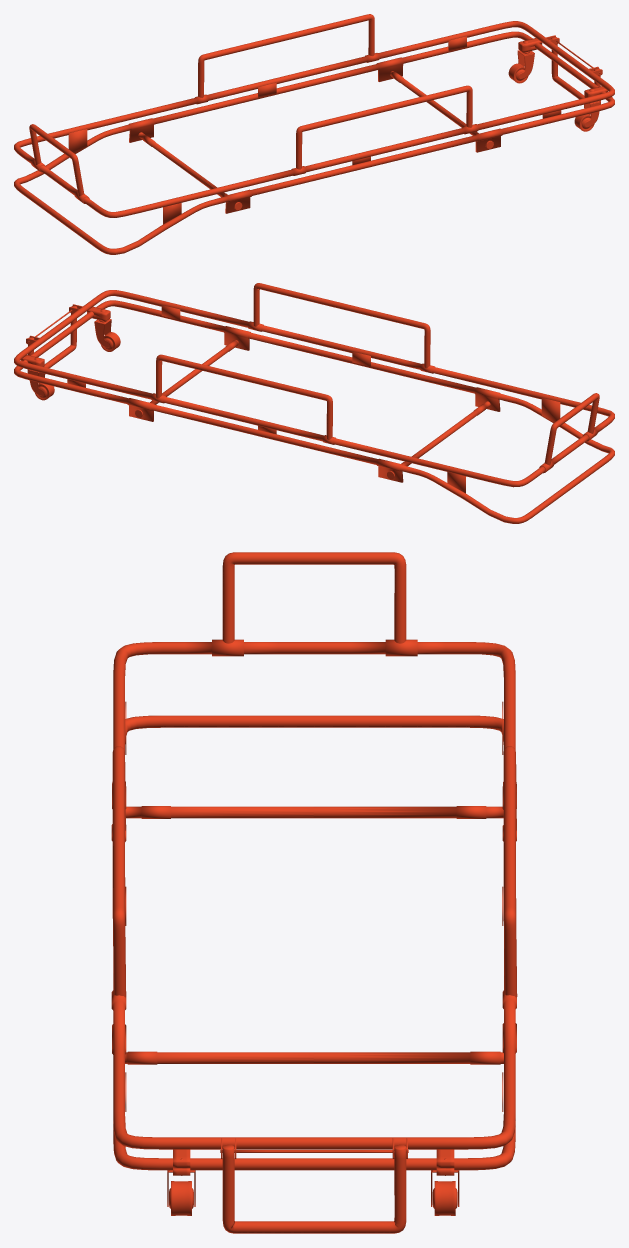
The model's file is Gurney_Metal.fbx.
3 views of the same model, one above another, from view 1: azimuth 30°, elevation 25°; view 2: azimuth 150°, elevation 25°; view 3: azimuth 270°, elevation 25° (orthographic). The views are drawn at different scales.
Visible parts, largest first — view 1: CoronersCartTEST.obj.005; view 2: CoronersCartTEST.obj.005; view 3: CoronersCartTEST.obj.005.
Part boxes in pixels (bbox=[...]): CoronersCartTEST.obj.005: bbox=[14, 14, 614, 254]; CoronersCartTEST.obj.005: bbox=[14, 283, 614, 523]; CoronersCartTEST.obj.005: bbox=[111, 552, 517, 1233].
Bounding box in the file's own units: 781 × 124 × 259.
